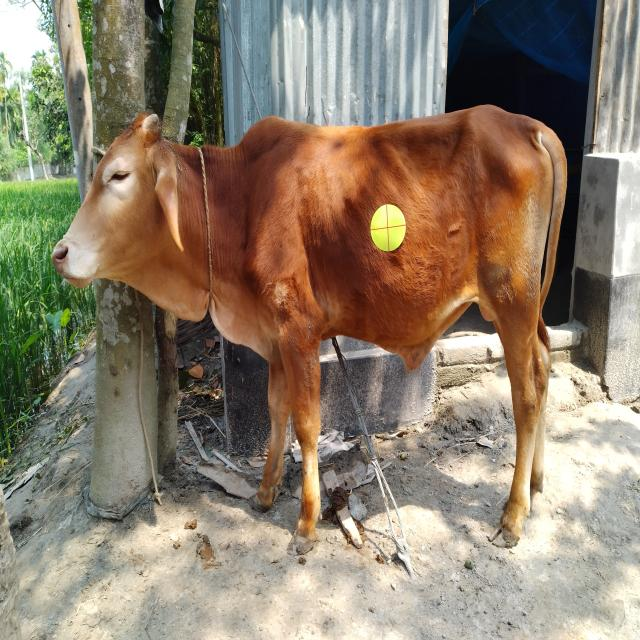badan_sapi: (242, 126, 556, 350)
sapi: (51, 103, 574, 572)
